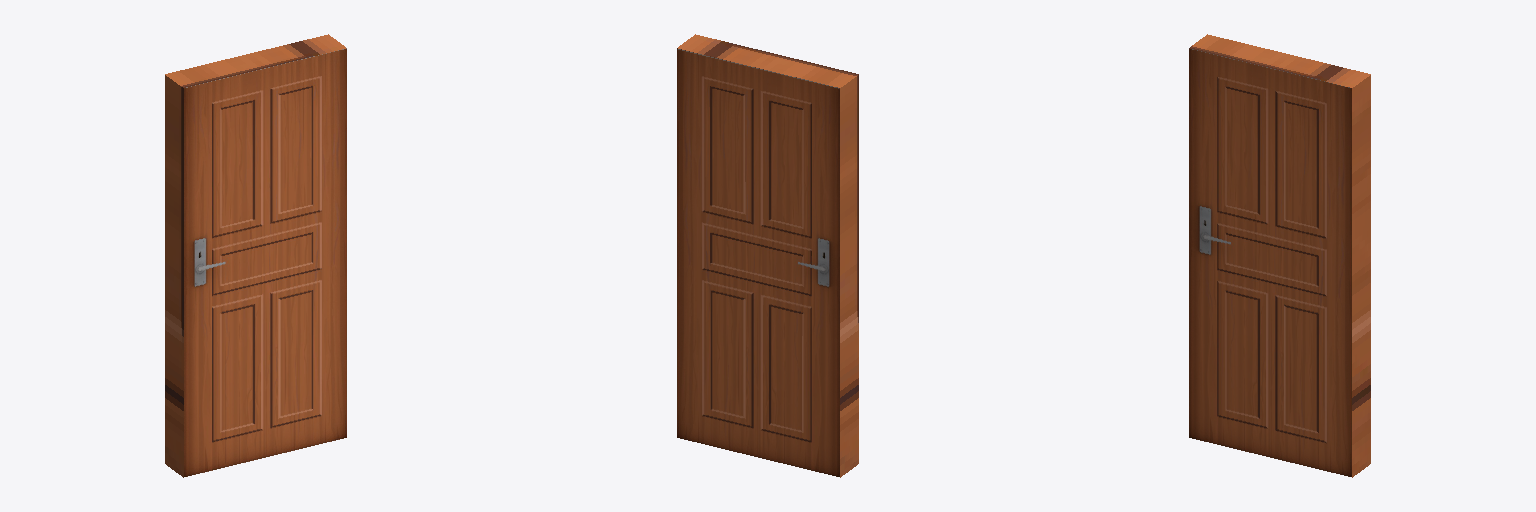
The picture shows the model from 3 angles: view 1: azimuth 30°, elevation 25°; view 2: azimuth 150°, elevation 25°; view 3: azimuth 330°, elevation 25°; orthographic projection.
Parts seen in each view (by area): view 1: PuertaCuarto_Cuarto; view 2: PuertaCuarto_Cuarto; view 3: PuertaCuarto_Cuarto.
Boxes of the visible parts, x1=… form: PuertaCuarto_Cuarto: x1=165, y1=34, x2=346, y2=477; PuertaCuarto_Cuarto: x1=677, y1=34, x2=858, y2=477; PuertaCuarto_Cuarto: x1=1189, y1=34, x2=1370, y2=477.
Size of the model in its own units: 1 by 2.27 by 0.2.
Materials: 1 (1 with a texture image).